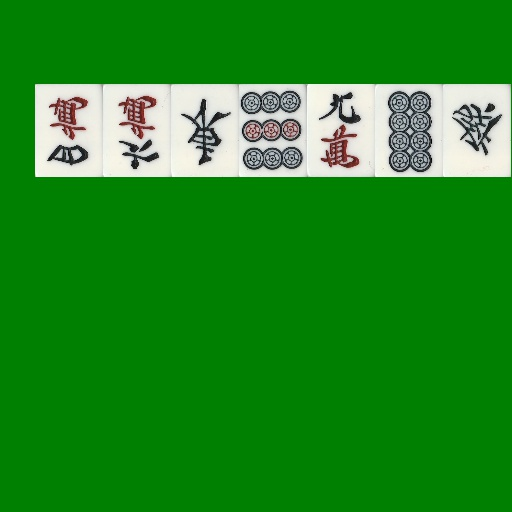4m: (35, 84, 103, 177)
6m: (103, 84, 171, 177)
8p: (375, 84, 443, 177)
9m: (307, 84, 375, 177)
9p: (239, 84, 307, 177)
east: (171, 84, 239, 177)
hatsu: (443, 84, 511, 177)
